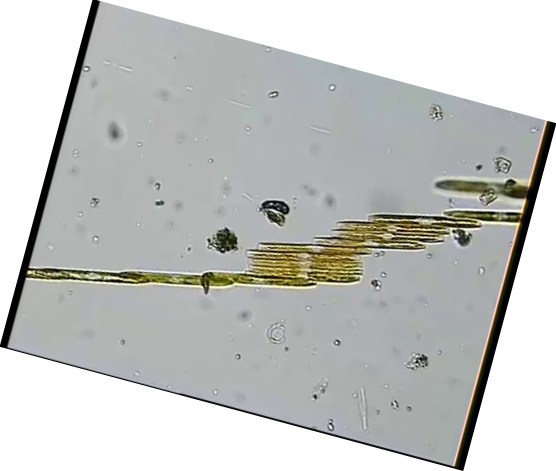Bacillaria: (247, 269, 360, 275), (247, 262, 360, 268), (247, 252, 360, 258), (254, 243, 367, 249), (328, 234, 441, 240), (332, 225, 445, 231), (366, 215, 479, 221)
